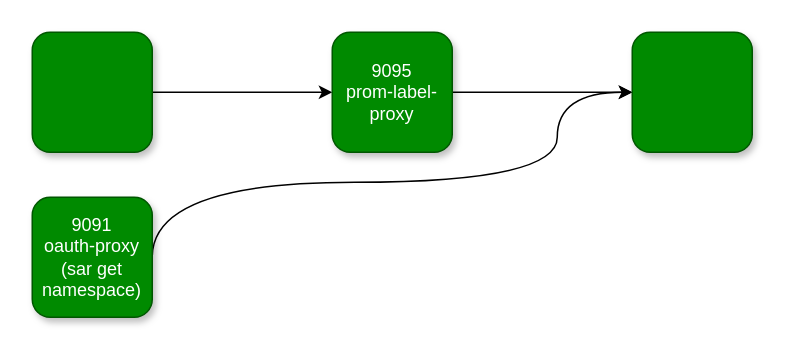
Some shapes in this 788 by 354 pixel diagram are drawn without their labels. The centre of each missing label's shape, as x and y in pixels:
"9090 THANOS" goes at (693,94).
"9092 kube-rbac-proxy" goes at (93,94).
